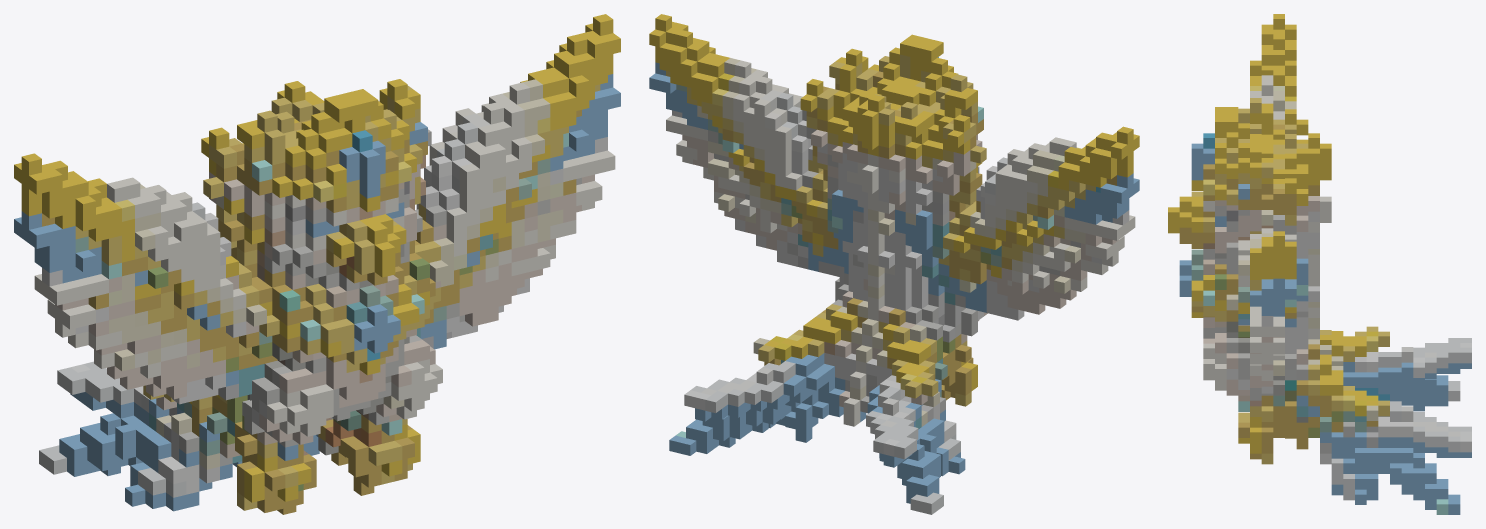
Rendered from adalor_voxel.glb.
The picture shows the model from 3 angles, left to right: view 1: azimuth 30°, elevation 25°; view 2: azimuth 150°, elevation 25°; view 3: azimuth 270°, elevation 25°; orthographic projection. The views are drawn at different scales.
Bounding box in the file's own units: 45 × 32 × 26.
